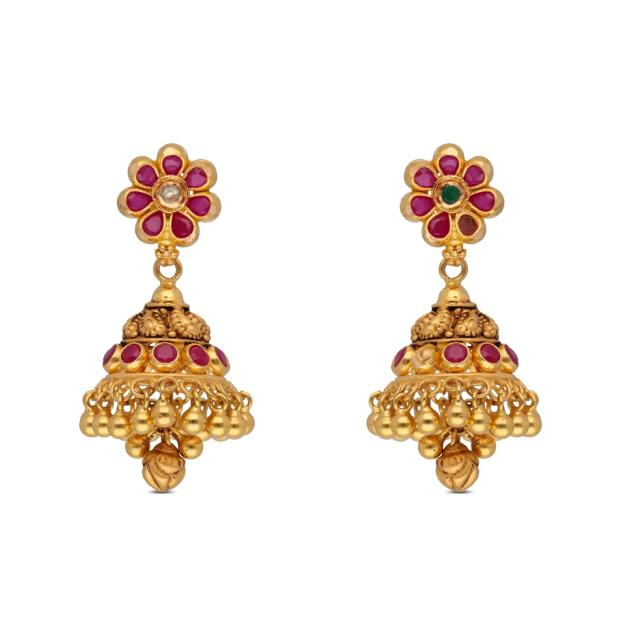missing gem: (157, 180, 185, 207), (412, 346, 436, 368)
